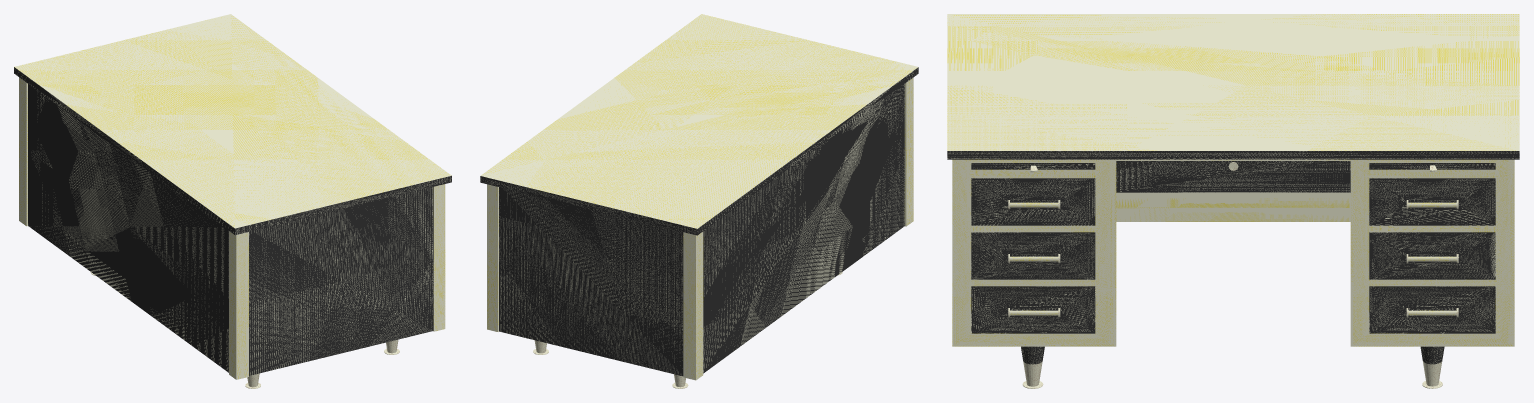
3 views of the same model, side by side, from view 1: azimuth 30°, elevation 25°; view 2: azimuth 150°, elevation 25°; view 3: azimuth 270°, elevation 25° (orthographic). The views are drawn at different scales.
Parts seen in each view (by area): view 1: mesh1_mesh1-geometry; view 2: mesh1_mesh1-geometry; view 3: mesh1_mesh1-geometry.
Boxes of the visible parts, x1,y1,x2,y2 form: mesh1_mesh1-geometry: [14, 14, 451, 388]; mesh1_mesh1-geometry: [480, 14, 918, 380]; mesh1_mesh1-geometry: [947, 14, 1519, 388].
Bounding box in the file's own units: 0.458 × 0.3868 × 0.8004.
4 materials, 2 textured.
